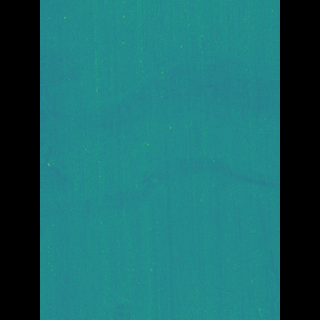Loch: (69, 42, 252, 245)
